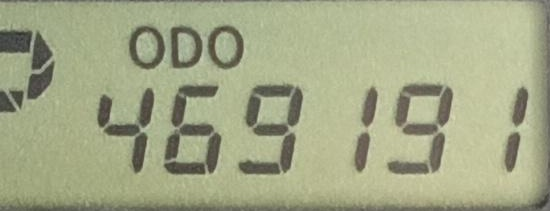1: (500, 83, 532, 174), (347, 85, 379, 175)
4: (95, 85, 155, 175)
6: (161, 83, 224, 176)
9: (235, 82, 305, 175), (384, 84, 453, 176)
X: (0, 24, 57, 137), (126, 24, 165, 70), (207, 25, 245, 70), (169, 25, 203, 70)
